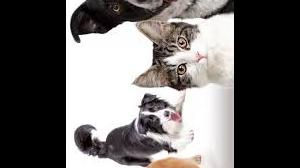Non_Gorille: (66, 0, 229, 168)
